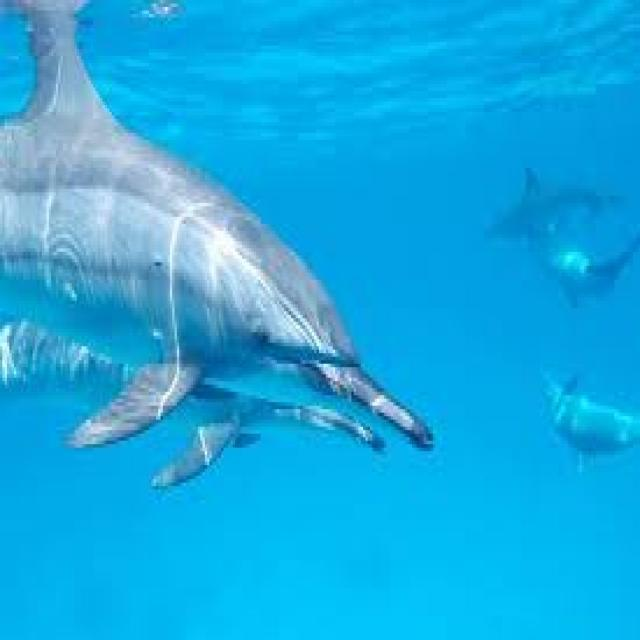dolphin: (4, 35, 487, 584)
